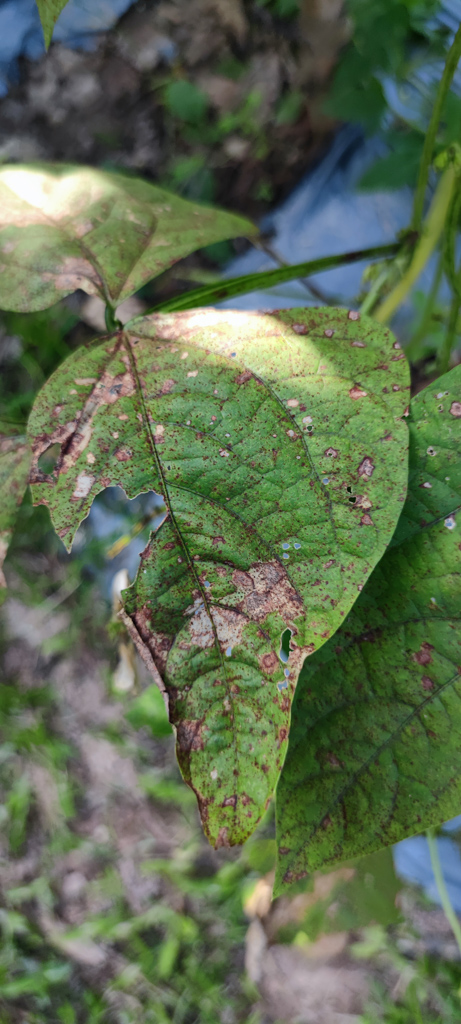Rust: (39, 312, 409, 858), (281, 361, 458, 909), (2, 131, 276, 324)
